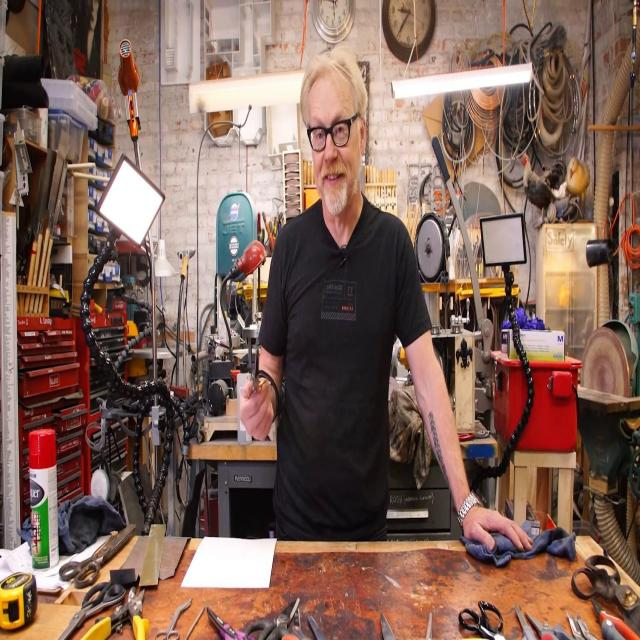scissor: (571, 553, 640, 640), (58, 524, 136, 589), (57, 581, 126, 640), (245, 597, 300, 640), (458, 601, 507, 640), (207, 606, 254, 640), (155, 598, 192, 640), (525, 611, 574, 640), (249, 348, 273, 398), (280, 608, 312, 640), (515, 605, 537, 640)
